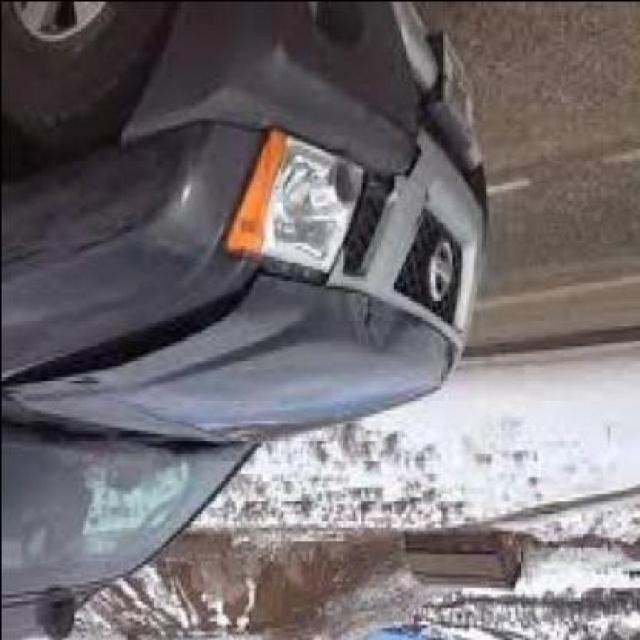damage: (3, 269, 428, 393)
